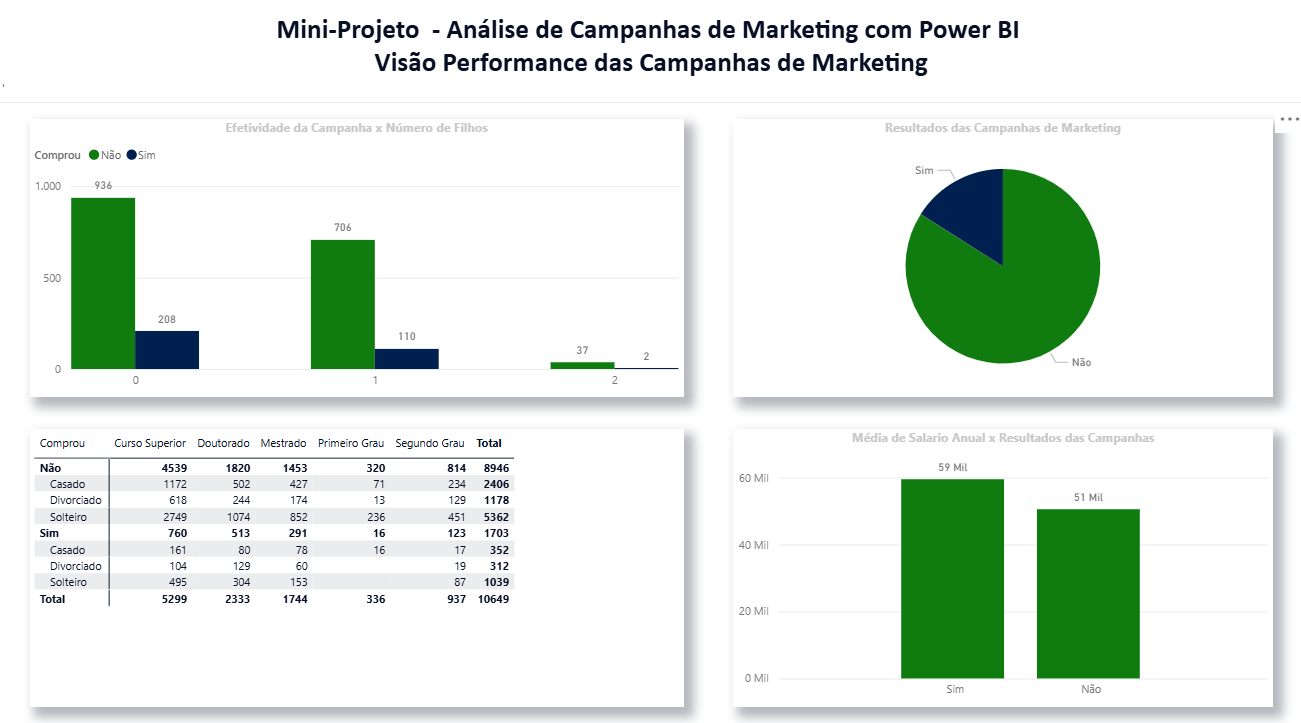

The page's visual inventory and layout, read from the dashboard file:
{"tool":"powerbi","page":{"name":"Visão Campanhas","canvas":[1280,720],"ordinal":2},"visuals":[{"type":"pieChart","title":"Resultados das Campanhas de Marketing","fields":{"Category":["DadosMarketing.Comprou"],"Y":["CountNonNull(DadosMarketing.ID)"]},"box":[720,128,528,272],"z":0},{"type":"textbox","box":[0,0,1280,112],"z":1000},{"type":"clusteredColumnChart","title":"Média de Salario Anual x Resultados das Campanhas ","fields":{"Y":["Avg(DadosMarketing.Salario Anual)"],"Category":["DadosMarketing.Comprou"]},"box":[720,432,528,272],"z":2000},{"type":"pivotTable","fields":{"Rows":["DadosMarketing.Comprou","DadosMarketing.Estado Civil","DadosMarketing.Pais"],"Values":["Sum(DadosMarketing.Numero Visitas WebSite Mes)"],"Columns":["DadosMarketing.Escolaridade"]},"box":[32,432,640,272],"z":3000},{"type":"clusteredColumnChart","title":"Efetividade da Campanha x Número de Filhos","fields":{"Category":["DadosMarketing.Filhos em Casa"],"Series":["DadosMarketing.Comprou"],"Y":["CountNonNull(DadosMarketing.Filhos em Casa)"]},"box":[32,128,640,272],"z":4000}]}

Visuals, with their boxes in screenshot pixels (x1, y1, x2, y2), scaled from the page's 1280x720 canvas onto the 1301x723 screenshot:
"Resultados das Campanhas de Marketing" pieChart: select_region(732, 129, 1268, 402)
textbox: select_region(0, 0, 1300, 112)
"Média de Salario Anual x Resultados das Campanhas " clusteredColumnChart: select_region(732, 434, 1268, 707)
pivotTable - DadosMarketing.Comprou x DadosMarketing.Estado Civil: select_region(33, 434, 683, 707)
"Efetividade da Campanha x Número de Filhos" clusteredColumnChart: select_region(33, 129, 683, 402)
